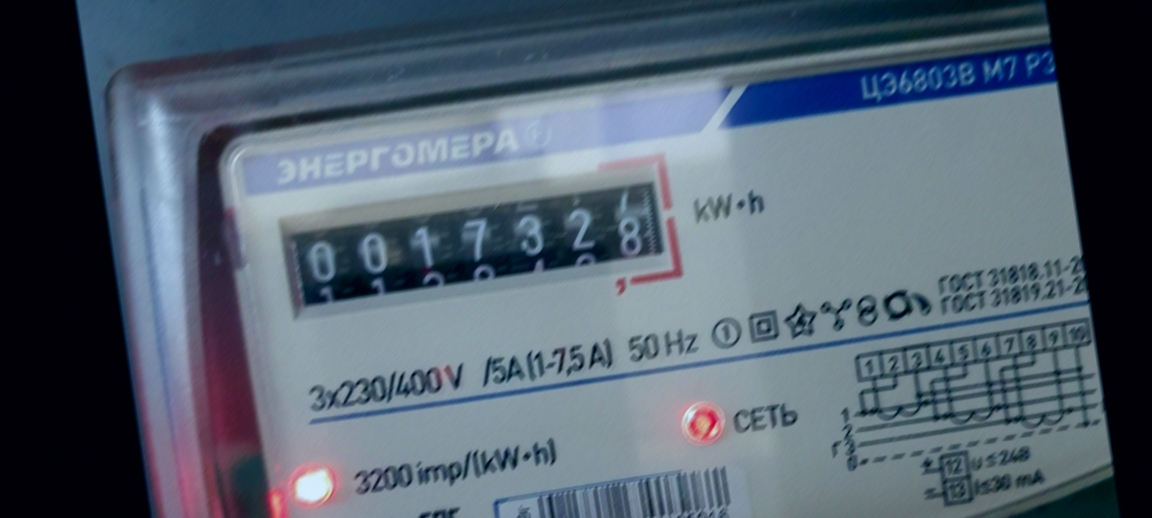0: (303, 238, 341, 287), (356, 228, 391, 277)
1: (410, 223, 438, 272)
2: (562, 205, 597, 254)
3: (513, 212, 546, 259)
7: (460, 216, 493, 266)
8: (613, 214, 644, 260)
screen: (267, 155, 691, 341)
